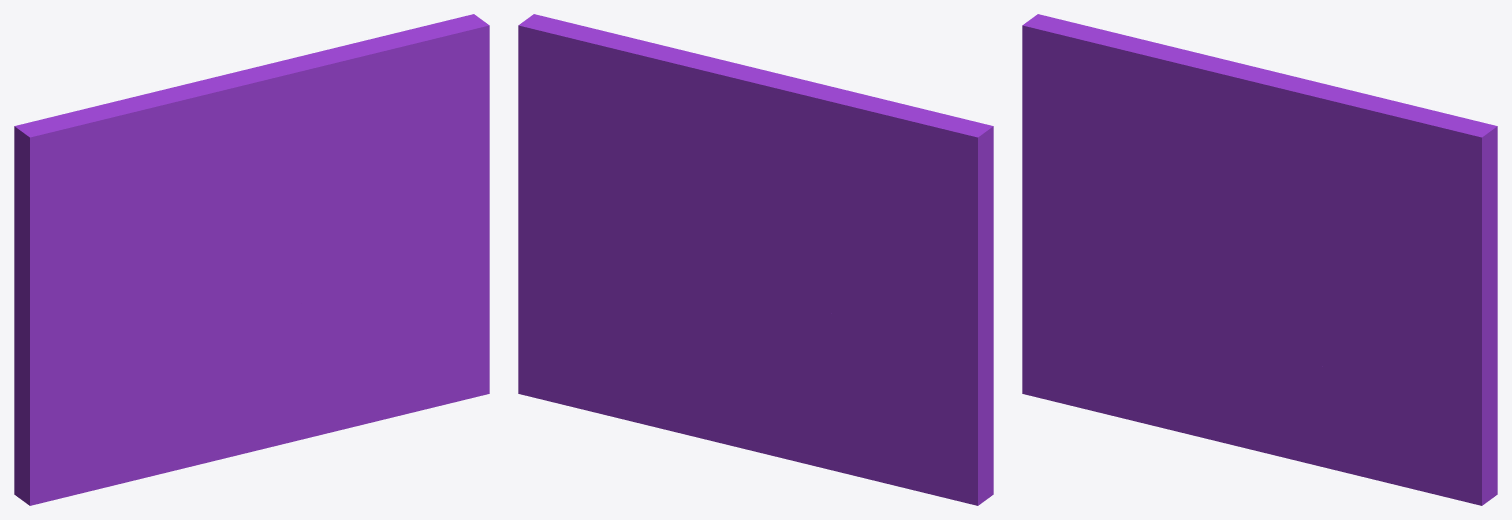
Rendered from Barrier_52_chunks.fbx.
The picture shows the model from 3 angles, left to right: view 1: azimuth 30°, elevation 25°; view 2: azimuth 150°, elevation 25°; view 3: azimuth 330°, elevation 25°; orthographic projection.
Parts seen in each view (by area): view 1: Barrier_52_1, Barrier_52_0, Barrier_52_4, Barrier_52_6, Barrier_52_3, Barrier_52_2; view 2: Barrier_52_1, Barrier_52_0, Barrier_52_6, Barrier_52_4, Barrier_52_2, Barrier_52_3, Barrier_52_5; view 3: Barrier_52_1, Barrier_52_0, Barrier_52_4, Barrier_52_6, Barrier_52_3.
Boxes of the visible parts, x1=… form: Barrier_52_1: x1=265, y1=14, x2=489, y2=412; Barrier_52_0: x1=14, y1=54, x2=337, y2=347; Barrier_52_4: x1=172, y1=283, x2=410, y2=470; Barrier_52_6: x1=14, y1=332, x2=173, y2=505; Barrier_52_3: x1=76, y1=267, x2=281, y2=369; Barrier_52_2: x1=14, y1=268, x2=25, y2=357; Barrier_52_1: x1=518, y1=14, x2=740, y2=414; Barrier_52_0: x1=684, y1=51, x2=993, y2=337; Barrier_52_6: x1=830, y1=336, x2=993, y2=505; Barrier_52_4: x1=604, y1=291, x2=830, y2=469; Barrier_52_2: x1=737, y1=218, x2=989, y2=369; Barrier_52_3: x1=728, y1=278, x2=906, y2=363; Barrier_52_5: x1=777, y1=330, x2=850, y2=440; Barrier_52_1: x1=1258, y1=86, x2=1497, y2=505; Barrier_52_0: x1=1022, y1=14, x2=1331, y2=269; Barrier_52_4: x1=1164, y1=294, x2=1402, y2=486; Barrier_52_6: x1=1022, y1=236, x2=1165, y2=428; Barrier_52_3: x1=1069, y1=242, x2=1273, y2=327.
Bounding box in the file's own units: 376 × 288 × 22.1.
